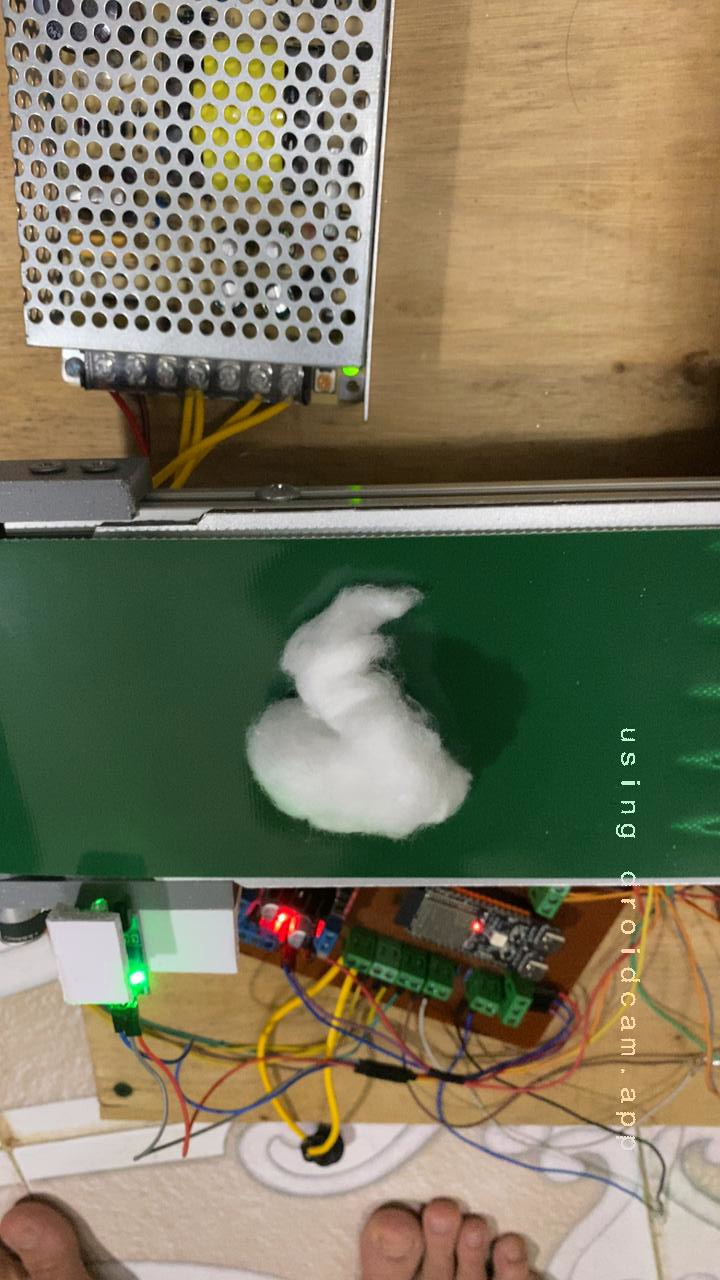cotton: (222, 565, 495, 868)
